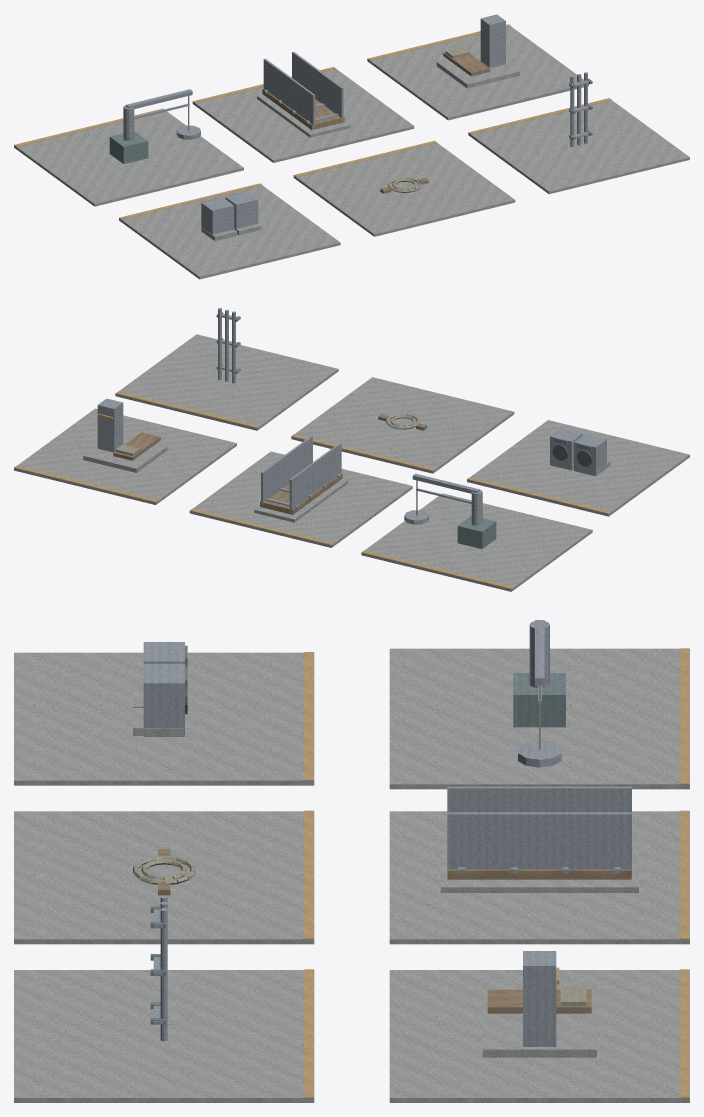
Rendered from level_blockout_kit_wld_15_p05.glb.
3 renders of one model, top to bottom at view 1: azimuth 30°, elevation 25°; view 2: azimuth 150°, elevation 25°; view 3: azimuth 270°, elevation 25°, orthographic. The views are drawn at different scales.
Visible parts, largest first — view 1: level_blockout_kit_wld_15_p05; view 2: level_blockout_kit_wld_15_p05; view 3: level_blockout_kit_wld_15_p05.
Boxes of the visible parts, left/top/right/bottom form: level_blockout_kit_wld_15_p05: left=14, top=14, right=689, bottom=279; level_blockout_kit_wld_15_p05: left=14, top=308, right=689, bottom=591; level_blockout_kit_wld_15_p05: left=14, top=620, right=689, bottom=1102.
Size of the model in its own units: 19.81 by 2.79 by 12.6.
7 materials, 7 textured.
